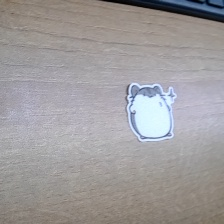mouse: (124, 80, 180, 146)
